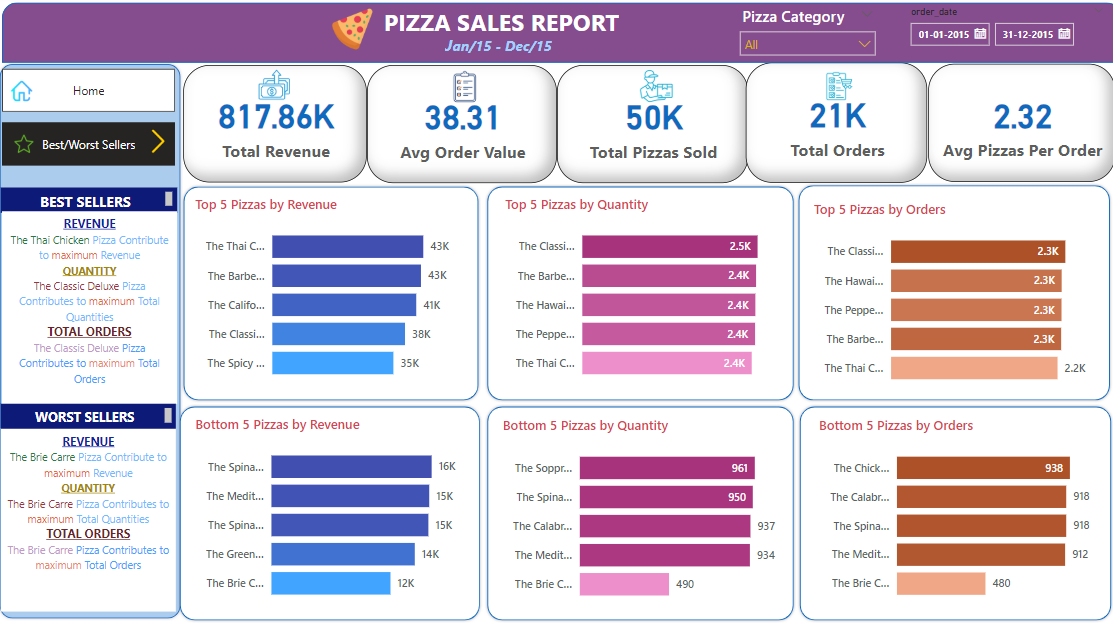

The dashboard page shown, as its layout file describes it:
{"tool":"powerbi","page":{"name":"Best/Worst Sellers","canvas":[1280,720],"ordinal":1},"visuals":[{"type":"group","id":"g1","title":"Group 6","box":[211.5,77.2,1060.5,137.7],"z":0},{"type":"card","fields":{"Values":["pizza_sales.Avg Pizzas Per Order"]},"box":[1059.3,78.5,212.7,134.5],"z":0,"group":"g1"},{"type":"card","fields":{"Values":["pizza_sales.Total Revenue"]},"box":[211.5,80.2,209.1,133.4],"z":0,"group":"g3"},{"type":"card","fields":{"Values":["pizza_sales.Avg Order Value"]},"box":[420.6,80.2,215.8,134.8],"z":0,"group":"g6"},{"type":"group","id":"g2","title":"Group 2","box":[636.4,80.2,217.2,134.8],"z":0,"group":"g4"},{"type":"card","fields":{"Values":["pizza_sales.Total Pizzas Sold"]},"box":[636.4,80.2,217.2,134.8],"z":1,"group":"g2"},{"type":"image","box":[282.1,77.4,65.2,50.9],"z":5,"group":"g3"},{"type":"shape","box":[6.1,8.6,1273.8,68.5],"z":1000},{"type":"group","id":"g3","title":"Group 1","box":[211.5,77.4,209.1,136.1],"z":1000,"group":"g1"},{"type":"image","box":[712.4,80.2,74.7,48.1],"z":1000,"group":"g4"},{"type":"textbox","box":[435.2,7.3,336.2,48.9],"z":2000},{"type":"card","fields":{"Values":["pizza_sales.Total Orders"]},"box":[852.1,77.2,206.6,136.9],"z":2000,"group":"g5"},{"type":"group","id":"g4","title":"Group 3","box":[636.4,80.2,217.2,134.8],"z":2000,"group":"g1"},{"type":"textbox","box":[504.9,37.9,199.3,36.7],"z":3000},{"type":"group","id":"g5","title":"Group 4","box":[852.1,77.2,206.6,136.9],"z":3000,"group":"g1"},{"type":"image","box":[363.1,9.8,83.1,57.5],"z":4000},{"type":"group","id":"g6","title":"Group 5","box":[420.6,80.2,215.8,134.8],"z":4000,"group":"g1"},{"type":"image","box":[924.2,83.2,67.9,42.6],"z":4001,"group":"g5"},{"type":"image","box":[490.9,81.3,82.8,46.8],"z":4002,"group":"g6"},{"type":"shape","box":[209.2,215,341.9,249.6],"z":5000},{"type":"shape","box":[0,75.4,211.9,637.2],"z":6000},{"type":"group","id":"g7","title":"Group 7","box":[185.8,209.9,156.5,31.8],"z":7000},{"type":"textbox","box":[4.3,219,200.5,28.4],"z":8000},{"type":"textbox","box":[5.7,246,199.1,219],"z":9000},{"type":"textbox","box":[4.3,465.1,199.1,28.4],"z":10000},{"type":"textbox","box":[4.3,493.5,199.1,207.6],"z":11000},{"type":"slicer","fields":{"Values":["pizza_sales.pizza_category"]},"box":[835.4,7.2,174.6,62],"z":12000},{"type":"slicer","fields":{"Values":["pizza_sales.order_date"]},"box":[1027.2,7.2,243.8,67.8],"z":13000},{"type":"shape","box":[554,215,354.9,249.6],"z":14000},{"type":"shape","box":[908.9,213.5,360.7,251],"z":15000},{"type":"textbox","box":[185.8,209.9,156.5,31.8],"z":15002,"group":"g7"},{"type":"shape","box":[910.4,464.6,360.7,249.6],"z":16000},{"type":"shape","box":[554,464.6,354.9,249.6],"z":17000},{"type":"shape","box":[204.9,464.6,347.7,249.6],"z":18000},{"type":"barChart","title":"Top 5 Pizzas by Revenue","fields":{"Category":["pizza_sales.pizza_name"],"Y":["pizza_sales.Total Revenue"]},"box":[220.4,227.6,318.6,223.3],"z":19000},{"type":"barChart","title":"Bottom 5 Pizzas by Revenue","fields":{"Category":["pizza_sales.pizza_name"],"Y":["pizza_sales.Total Revenue"]},"box":[220,478,317.8,223.7],"z":20000},{"type":"barChart","title":"Top 5 Pizzas by Quantity","fields":{"Category":["pizza_sales.pizza_name"],"Y":["pizza_sales.Total Pizzas Sold"]},"box":[573.2,227.6,321.4,223.3],"z":21000},{"type":"barChart","title":"Bottom 5 Pizzas by Quantity","fields":{"Category":["pizza_sales.pizza_name"],"Y":["pizza_sales.Total Pizzas Sold"]},"box":[570.3,479.3,321.4,223.3],"z":22000},{"type":"barChart","title":"Top 5 Pizzas by Orders","fields":{"Category":["pizza_sales.pizza_name"],"Y":["pizza_sales.Total Orders"]},"box":[924.4,233.2,321.4,223.3],"z":22001},{"type":"barChart","title":"Bottom 5 Pizzas by Orders","fields":{"Category":["pizza_sales.pizza_name"],"Y":["pizza_sales.Total Orders"]},"box":[930.8,478.8,322.1,222.5],"z":22002},{"type":"pageNavigator","box":[5.7,83.9,197.7,49.8],"z":22003},{"type":"pageNavigator","box":[5.7,145.1,197.7,49.8],"z":22004},{"type":"image","box":[157.9,147.9,51.2,37],"z":22005},{"type":"image","box":[5.7,92.4,44.1,34.1],"z":22006},{"type":"image","box":[14.2,153.6,32.7,31.3],"z":22007}]}

Visuals, with their boxes in screenshot pixels (x1, y1, x2, y2), scaled from the page's 1280x720 canvas onto the 1113x624 screenshot:
"Group 6" group: bbox=[184, 67, 1106, 186]
card - pizza_sales.Avg Pizzas Per Order: bbox=[921, 68, 1106, 185]
card - pizza_sales.Total Revenue: bbox=[184, 70, 366, 185]
card - pizza_sales.Avg Order Value: bbox=[366, 70, 553, 186]
"Group 2" group: bbox=[553, 70, 742, 186]
card - pizza_sales.Total Pizzas Sold: bbox=[553, 70, 742, 186]
image: bbox=[245, 67, 302, 111]
shape: bbox=[5, 7, 1112, 67]
"Group 1" group: bbox=[184, 67, 366, 185]
image: bbox=[619, 70, 684, 111]
textbox: bbox=[378, 6, 671, 49]
card - pizza_sales.Total Orders: bbox=[741, 67, 921, 186]
"Group 3" group: bbox=[553, 70, 742, 186]
textbox: bbox=[439, 33, 612, 65]
"Group 4" group: bbox=[741, 67, 921, 186]
image: bbox=[316, 8, 388, 58]
"Group 5" group: bbox=[366, 70, 553, 186]
image: bbox=[804, 72, 863, 109]
image: bbox=[427, 70, 499, 111]
shape: bbox=[182, 186, 479, 403]
shape: bbox=[0, 65, 184, 618]
"Group 7" group: bbox=[162, 182, 298, 209]
textbox: bbox=[4, 190, 178, 214]
textbox: bbox=[5, 213, 178, 403]
textbox: bbox=[4, 403, 177, 428]
textbox: bbox=[4, 428, 177, 608]
slicer - pizza_sales.pizza_category: bbox=[726, 6, 878, 60]
slicer - pizza_sales.order_date: bbox=[893, 6, 1105, 65]
shape: bbox=[482, 186, 790, 403]
shape: bbox=[790, 185, 1104, 403]
textbox: bbox=[162, 182, 298, 209]
shape: bbox=[792, 403, 1105, 619]
shape: bbox=[482, 403, 790, 619]
shape: bbox=[178, 403, 481, 619]
"Top 5 Pizzas by Revenue" barChart: bbox=[192, 197, 469, 391]
"Bottom 5 Pizzas by Revenue" barChart: bbox=[191, 414, 468, 608]
"Top 5 Pizzas by Quantity" barChart: bbox=[498, 197, 778, 391]
"Bottom 5 Pizzas by Quantity" barChart: bbox=[496, 415, 775, 609]
"Top 5 Pizzas by Orders" barChart: bbox=[804, 202, 1083, 396]
"Bottom 5 Pizzas by Orders" barChart: bbox=[809, 415, 1089, 608]
pageNavigator: bbox=[5, 73, 177, 116]
pageNavigator: bbox=[5, 126, 177, 169]
image: bbox=[137, 128, 182, 160]
image: bbox=[5, 80, 43, 110]
image: bbox=[12, 133, 41, 160]
